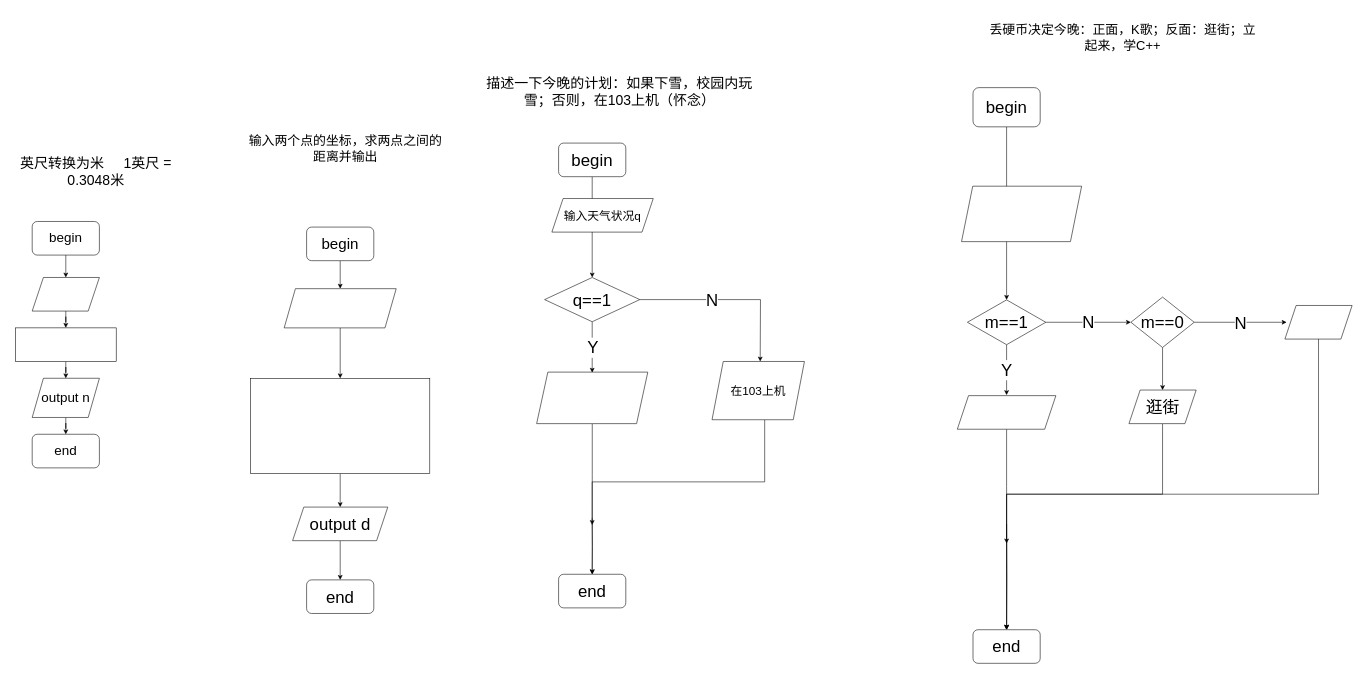
The diagram is 1362 pixels wide and 673 high, and some of its shapes have lost their labels. The shapes that lost their labels are listed below. From the top down, each one's box as (x1, y1, x2, y2) in pixels, then its label:
(961, 186, 1082, 242): 输入硬币状态 m
(32, 277, 99, 311): input m
(284, 288, 396, 328): input x1,x2,y1,y2
(1284, 305, 1352, 339): 学c++
(15, 327, 116, 361): n=m*0.3048
(536, 372, 648, 424): 在校园玩雪
(957, 395, 1056, 429): K歌
(250, 378, 430, 473): d=sqrt （（ x1-x2 ） ^2+ （ y1-y2 ） ^2 ））
